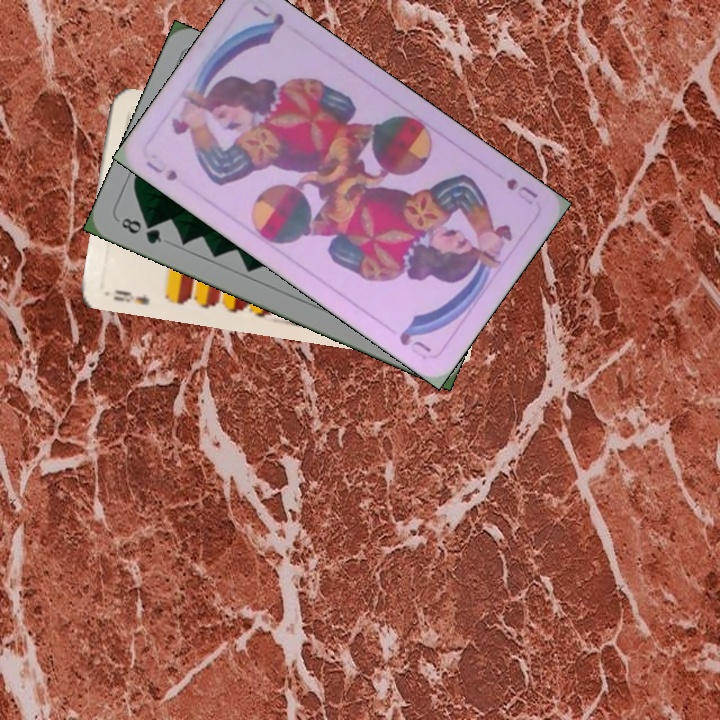E9: (110, 286, 152, 308)
G8: (117, 213, 165, 247)
SU: (141, 151, 181, 184), (502, 174, 541, 202)
